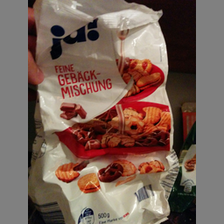chocolate: (38, 1, 177, 223)
